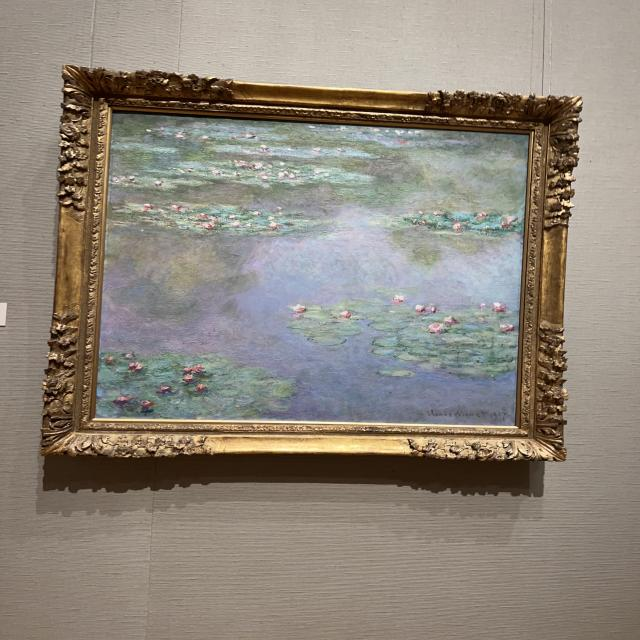lilies: (97, 111, 530, 425)
